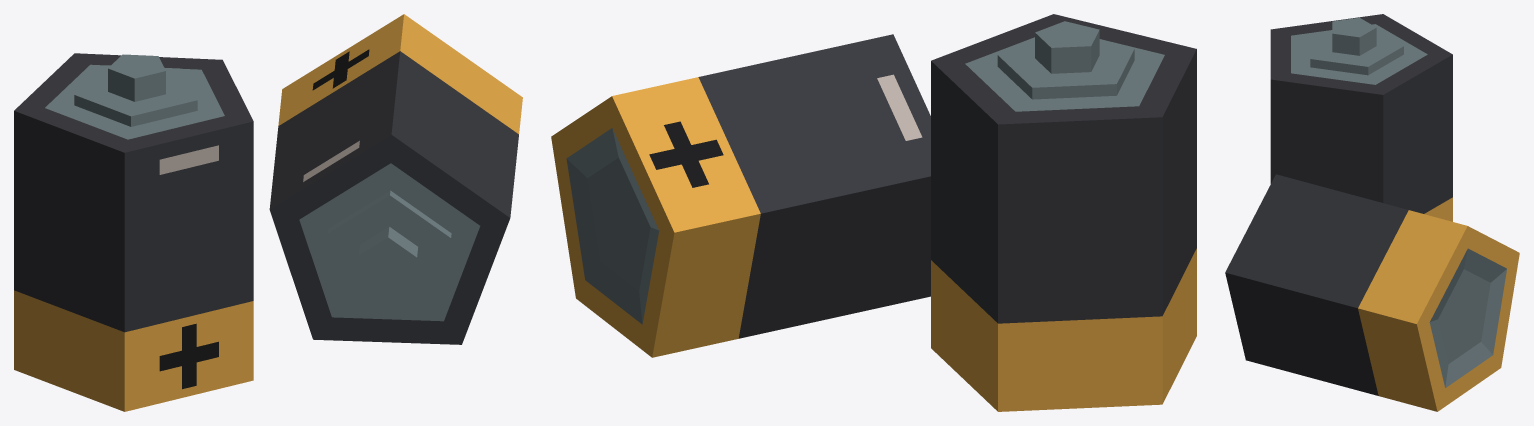
File: SM_Battery.gltf
3 views of the same model, side by side, from view 1: azimuth 30°, elevation 25°; view 2: azimuth 150°, elevation 25°; view 3: azimuth 270°, elevation 25° (orthographic). The views are drawn at different scales.
Parts seen in each view (by area): view 1: SM_Battery; view 2: SM_Battery; view 3: SM_Battery.
Boxes of the visible parts, bbox=[...] form: SM_Battery: bbox=[14, 14, 522, 411]; SM_Battery: bbox=[551, 14, 1196, 411]; SM_Battery: bbox=[1225, 14, 1519, 411].
Bounding box in the file's own units: 0.2074 × 0.1096 × 0.1256.
1 material, 1 textured.
